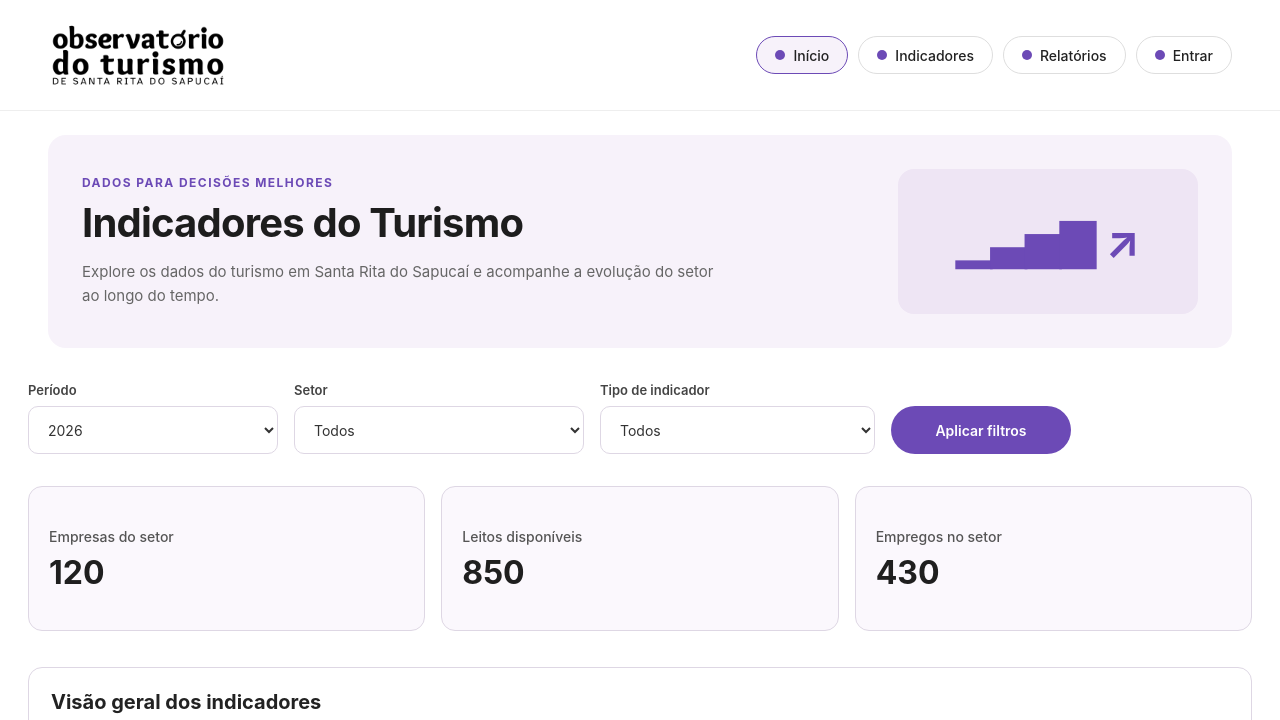
Test: Dashboard › mantém os dados atuais até clicar em Aplicar filtros
The width and height of the screenshot is (1280, 720).
Expected: the text "120" is shown, [49, 553, 104, 592]
Usuário seleciona 2025
Select "2025" in the dropdown labelled "Período": (153, 430) [28, 406, 278, 454]
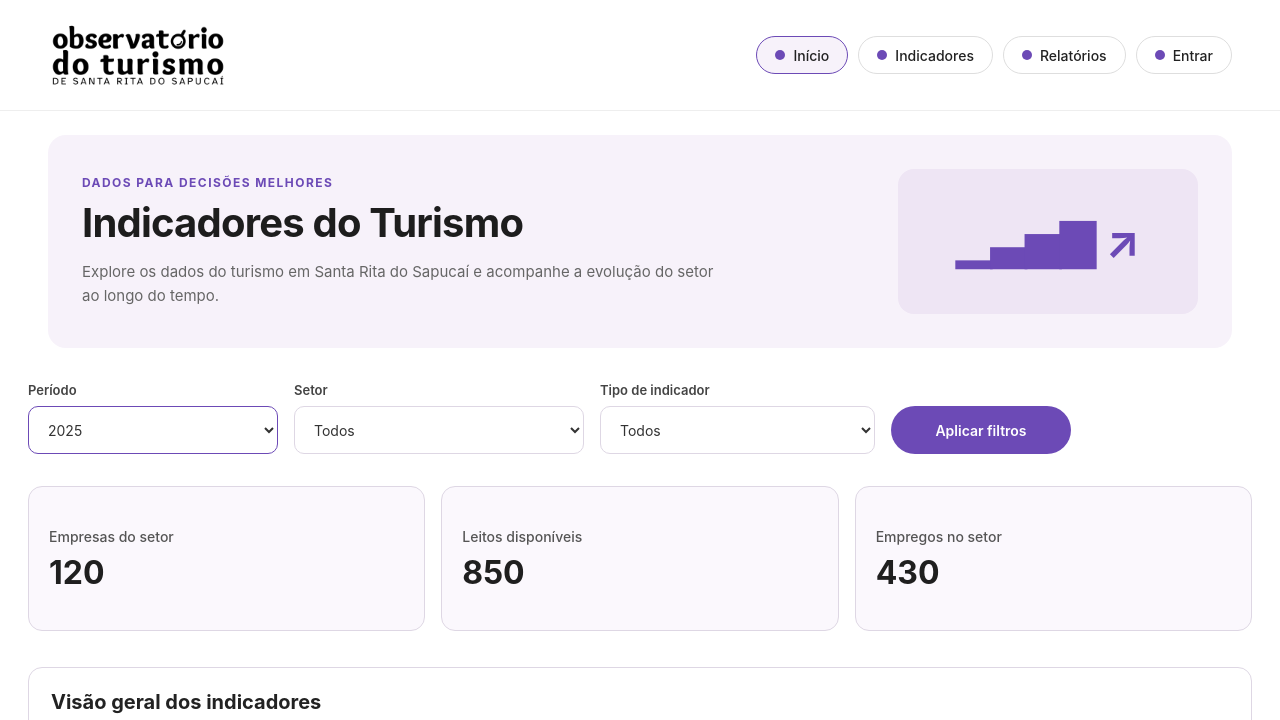
Expected: the text "120" is shown, [49, 553, 104, 592]
Expected: the text "105" is not shown
Aplica o filtro
Click the button "Aplicar filtros": (981, 430) [891, 406, 1071, 454]
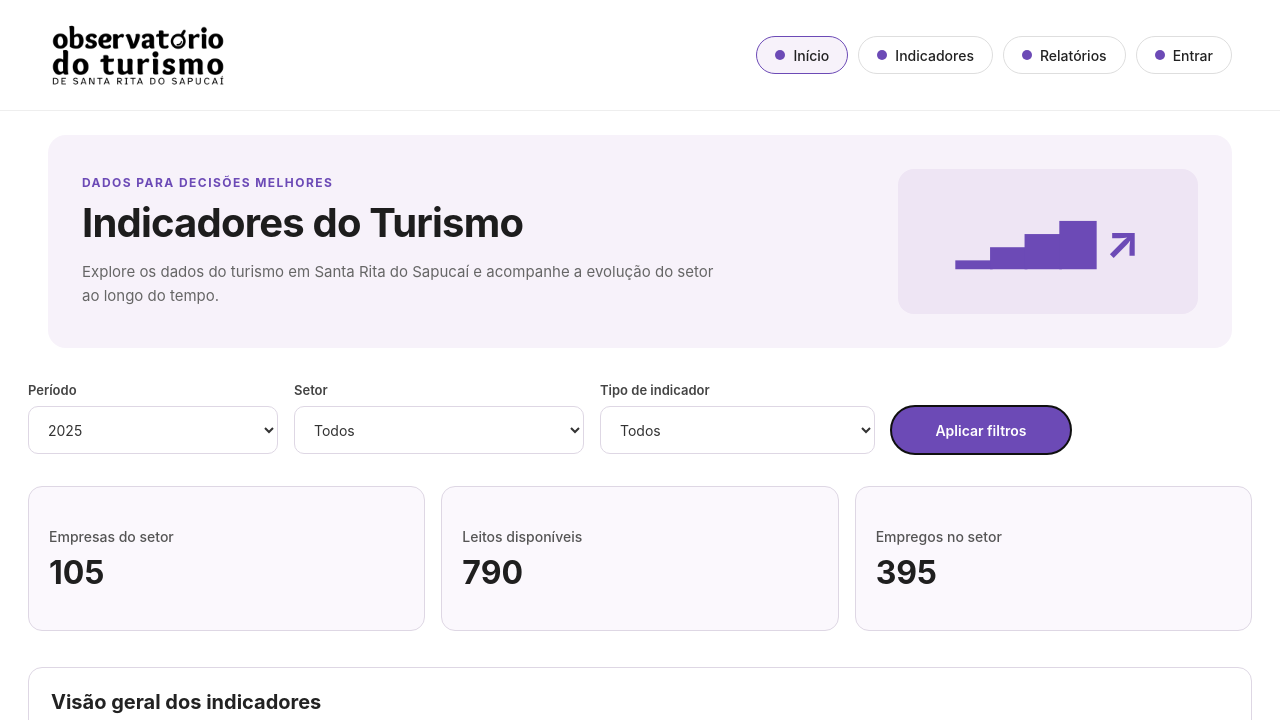
Expected: the text "105" is shown, [49, 553, 104, 592]
Expected: the text "120" is gone
